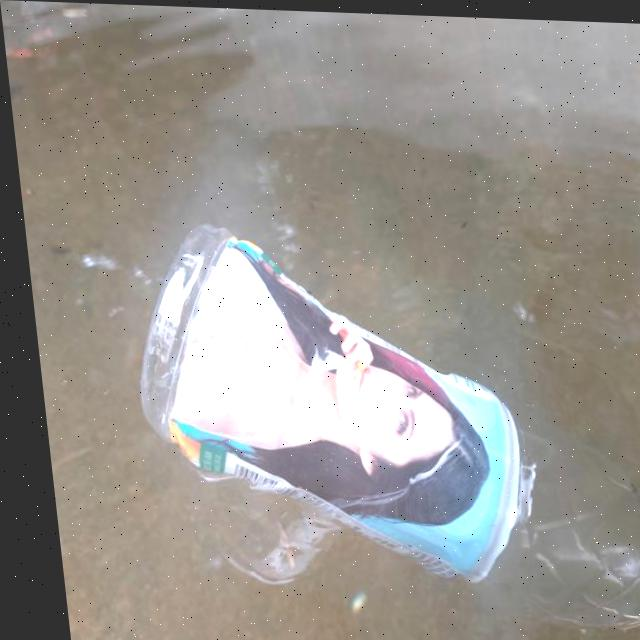waterbottle: (93, 209, 640, 640)
